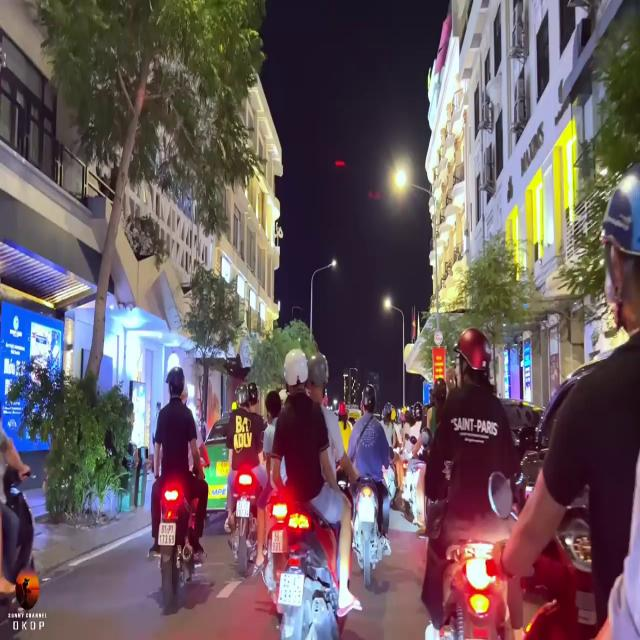bien_trang: (276, 569, 307, 611), (160, 521, 177, 545)
